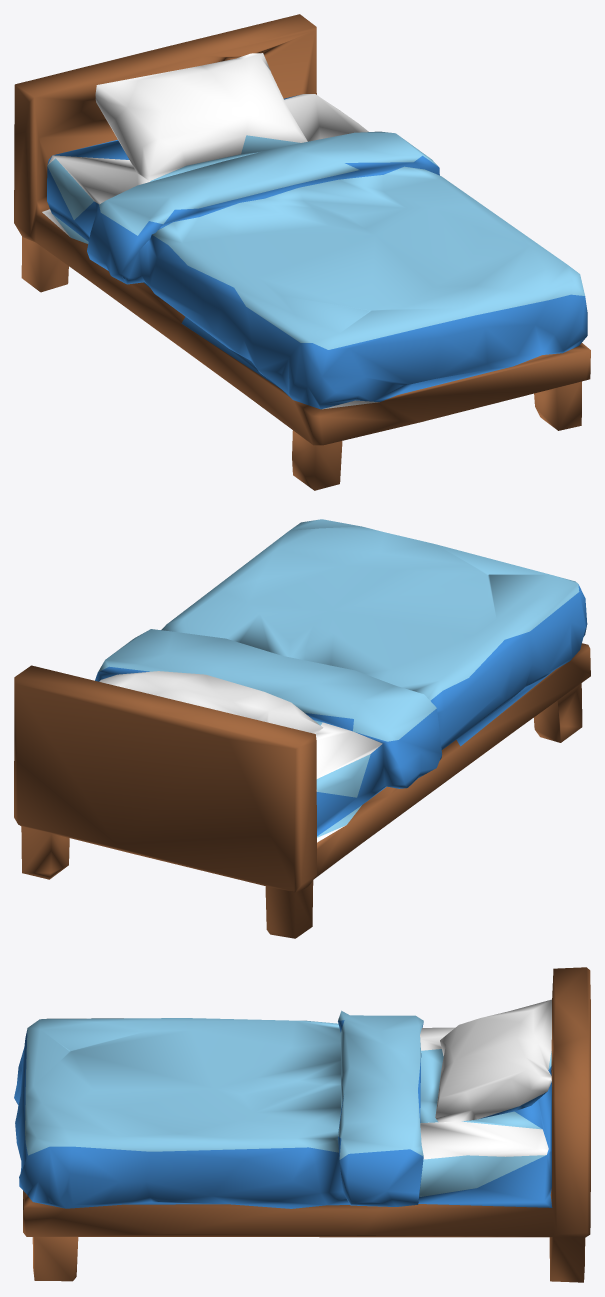
Rendered from SM_prop_bed_single.fbx.
The picture shows the model from 3 angles, top to bottom: view 1: azimuth 30°, elevation 25°; view 2: azimuth 150°, elevation 25°; view 3: azimuth 270°, elevation 25°; orthographic projection. The views are drawn at different scales.
Visible parts, largest first — view 1: SM_prop_bed_single; view 2: SM_prop_bed_single; view 3: SM_prop_bed_single.
Part boxes in pixels (x1,y1,x2,y2): SM_prop_bed_single: (14,14,590,490); SM_prop_bed_single: (14,519,590,938); SM_prop_bed_single: (14,967,590,1282).
Bounding box in the file's own units: 103 × 60 × 167.
1 material, 1 textured.
